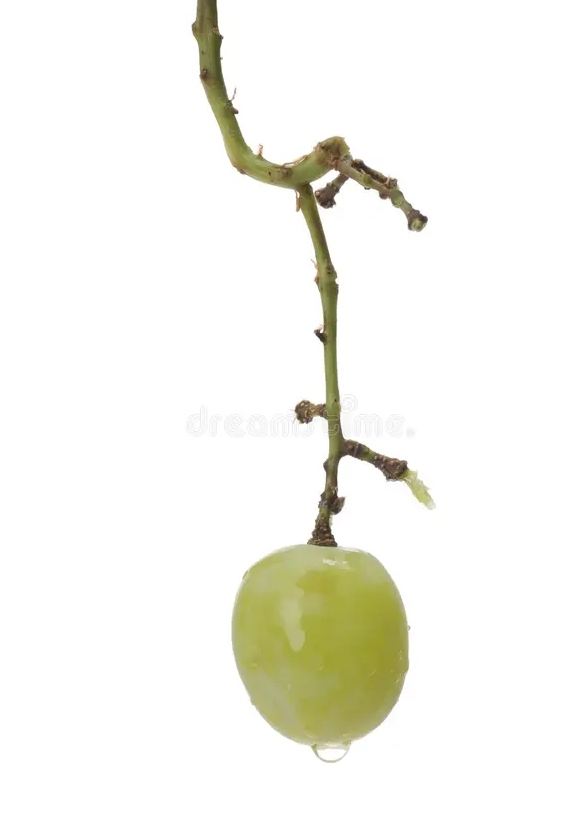grapes: (135, 521, 430, 777)
